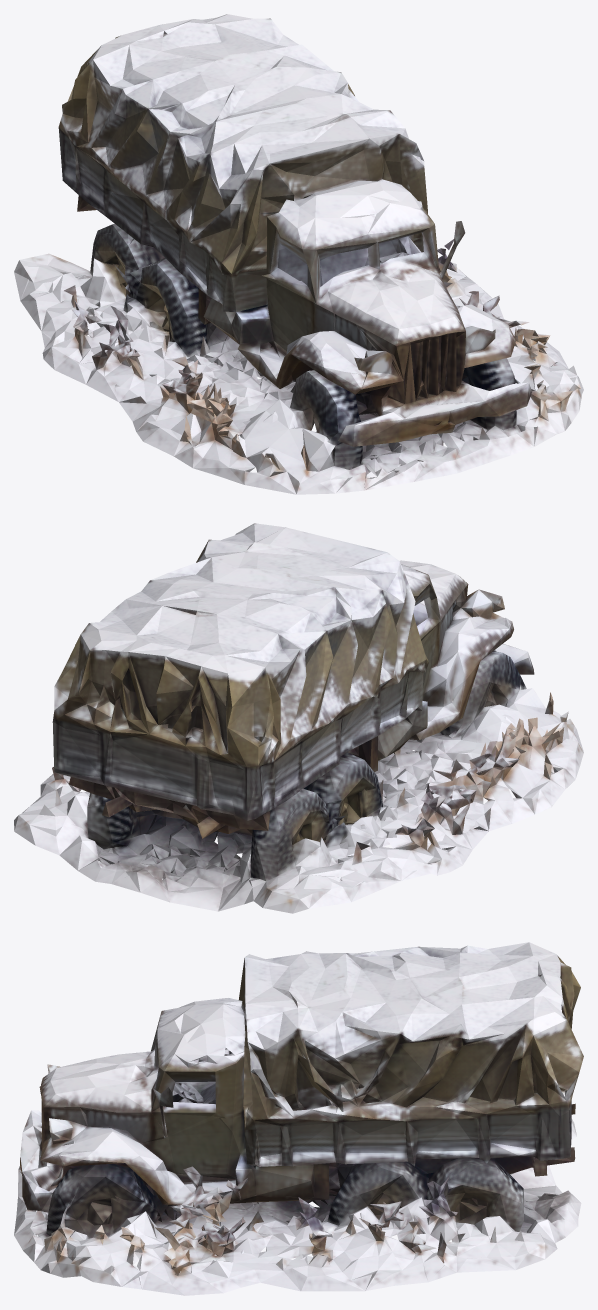
Rendered from truck_snow.obj.
3 renders of one model, top to bottom at view 1: azimuth 30°, elevation 25°; view 2: azimuth 150°, elevation 25°; view 3: azimuth 270°, elevation 25°, orthographic. The views are drawn at different scales.
Parts seen in each view (by area): view 1: truck_snow; view 2: truck_snow; view 3: truck_snow.
Part boxes in pixels (bbox=[...]): truck_snow: bbox=[14, 14, 583, 494]; truck_snow: bbox=[14, 523, 583, 913]; truck_snow: bbox=[14, 942, 583, 1295].
Size of the model in its own units: 5.1 by 2.99 by 6.5.
Materials: 1 (1 with a texture image).
